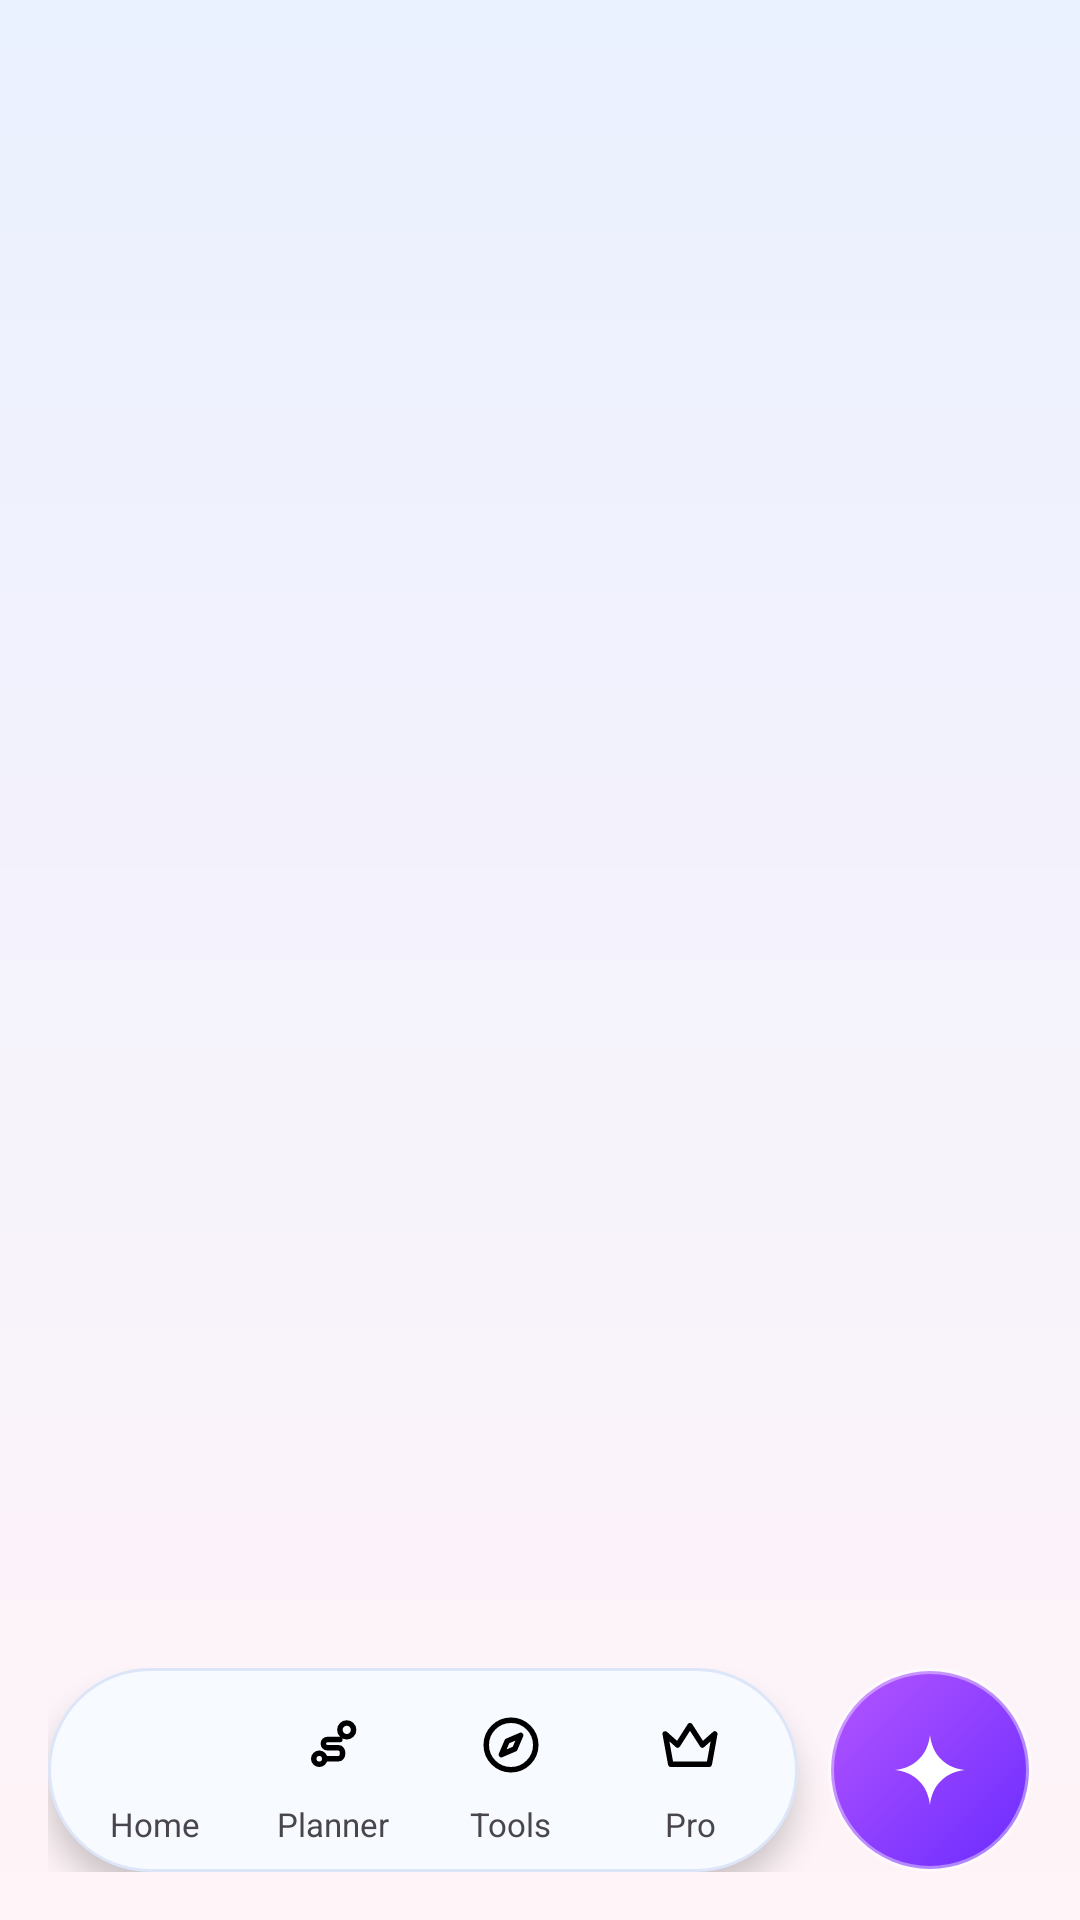

Locate icon controls on the screen. Image size 1080 × 1920, boxes as Rect(x1, y1, x2, y2).
Ask AI: Rect(831, 1671, 1029, 1869)
home crown: Rect(662, 1723, 718, 1767)
